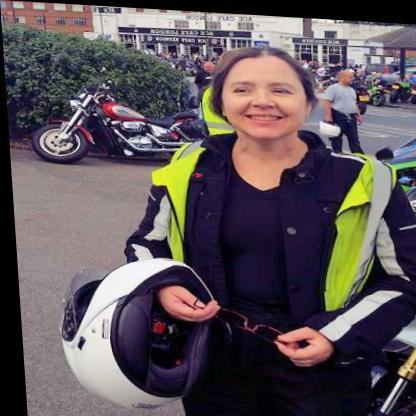With Helmet: (199, 32, 326, 135)
